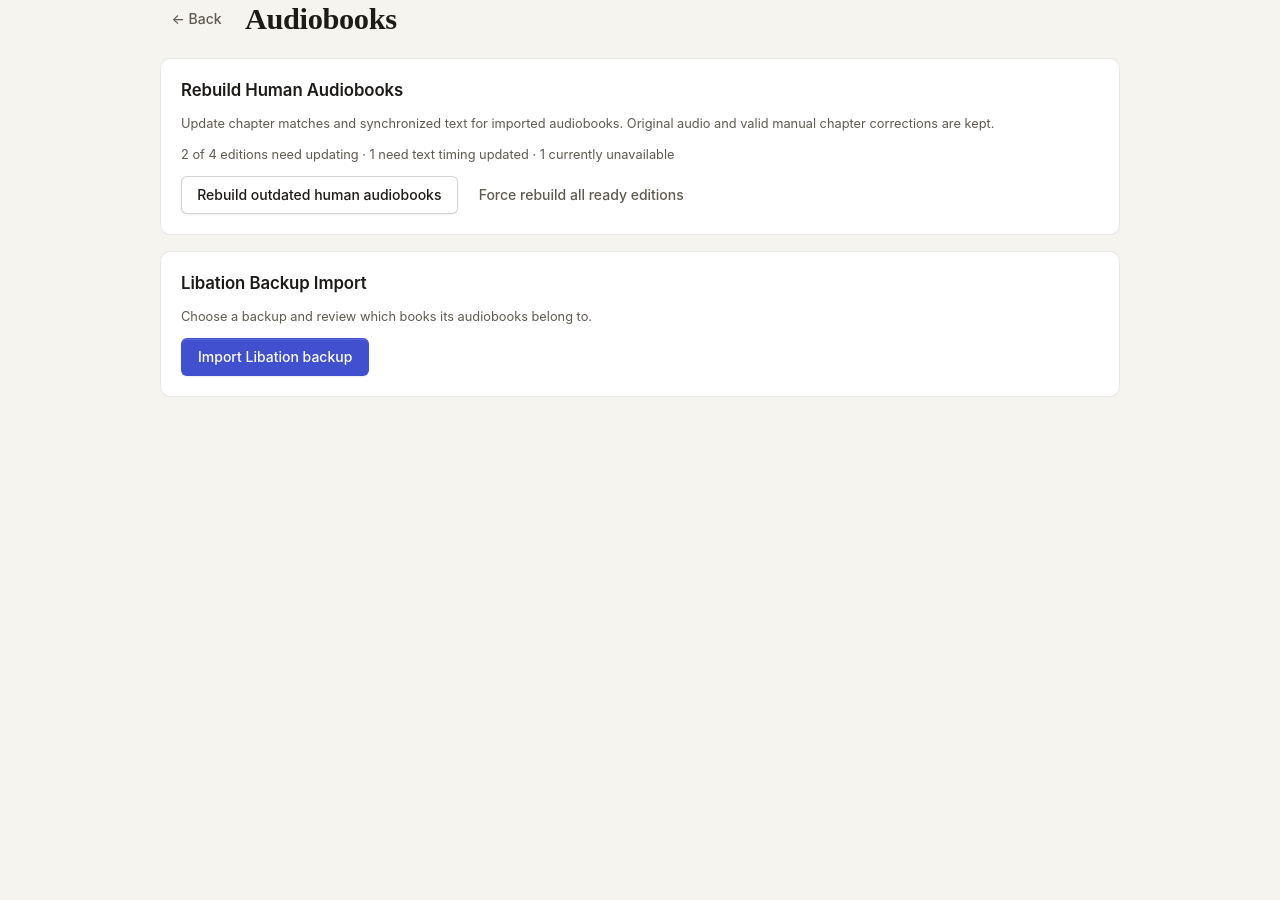
Test: Utilities › previews and queues versioned human audiobook rebuilds
Expected: the heading "Rebuild Human Audiobooks" is shown, x1=181 y1=80 x2=403 y2=100
Expected: the text "2 of 4 editions need updating" is shown, x1=181 y1=147 x2=674 y2=162
Click the button "Rebuild outdated human audiobooks".
click(319, 195)  # box x1=181 y1=176 x2=458 y2=214
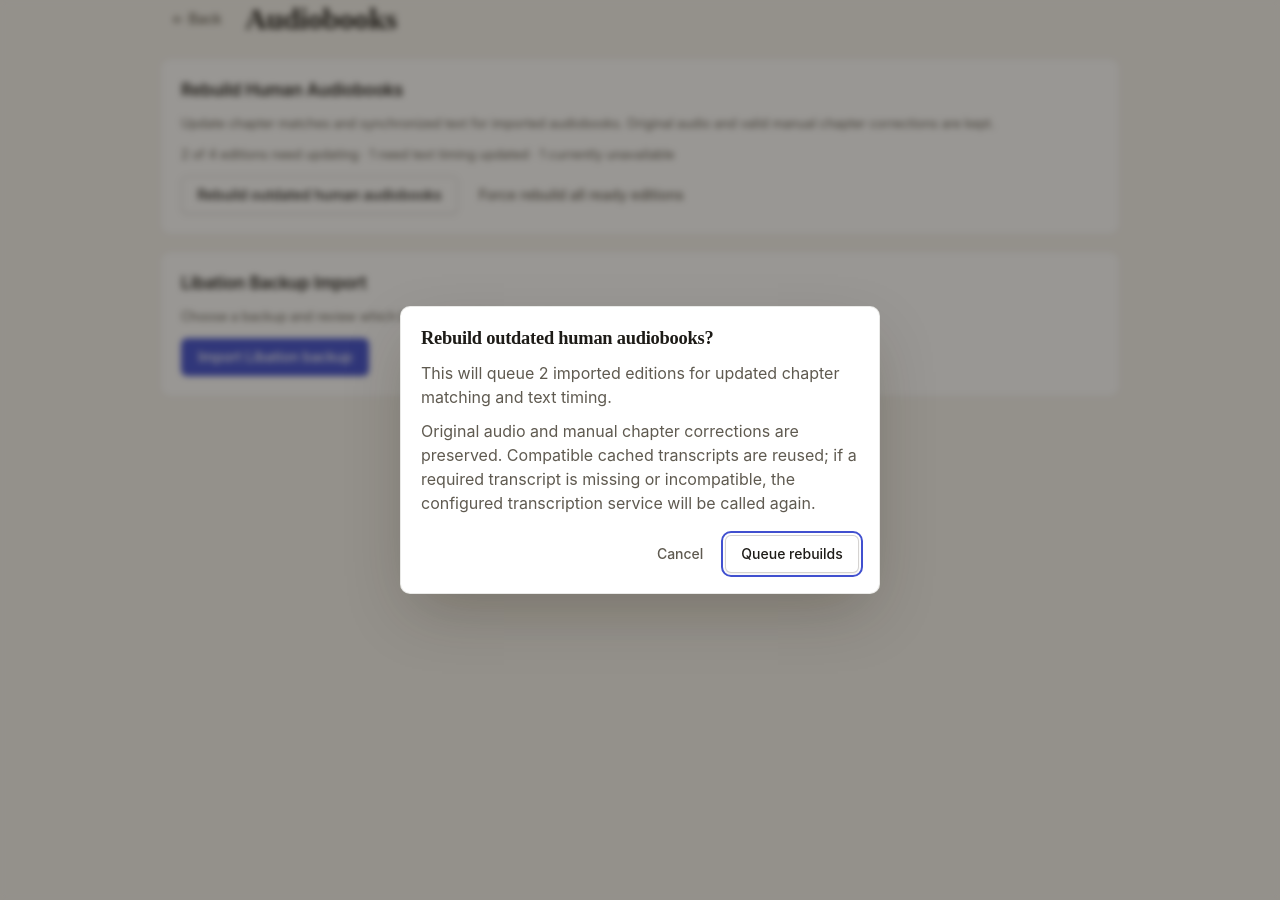
Now the text "Original audio and manual chapter corrections are preserved" is shown, box x1=421 y1=421 x2=857 y2=513
Click the button "Queue rebuilds".
click(792, 554)  # box x1=725 y1=535 x2=859 y2=573
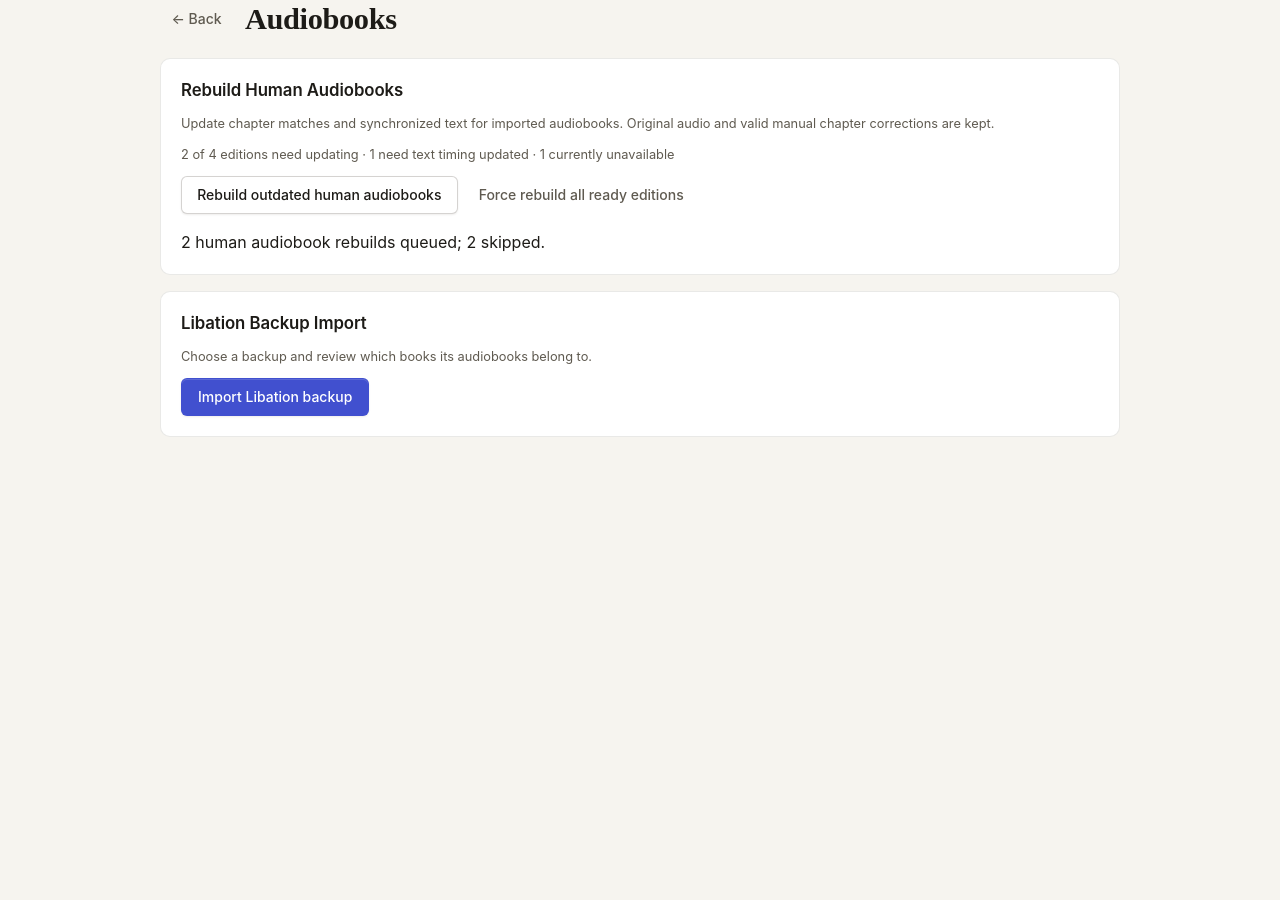
Now the text "2 human audiobook rebuilds queued; 2 skipped." is shown, box x1=181 y1=232 x2=545 y2=252
